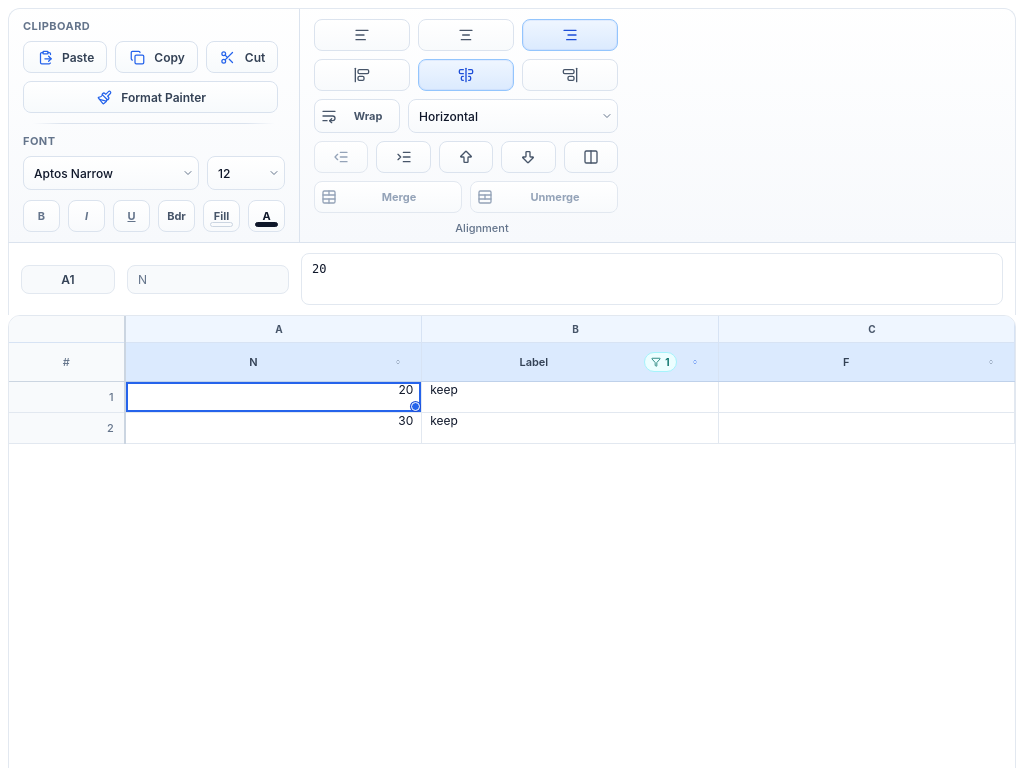
Test: A-007 click-to-insert address when the display order differs from source › inserts the SOURCE address, not the display row number
The image size is (1024, 768).
Step 1. Press the mouse on the cell with class "gm-td" in the row of "30" → (866, 428), box [718,412,1014,444]
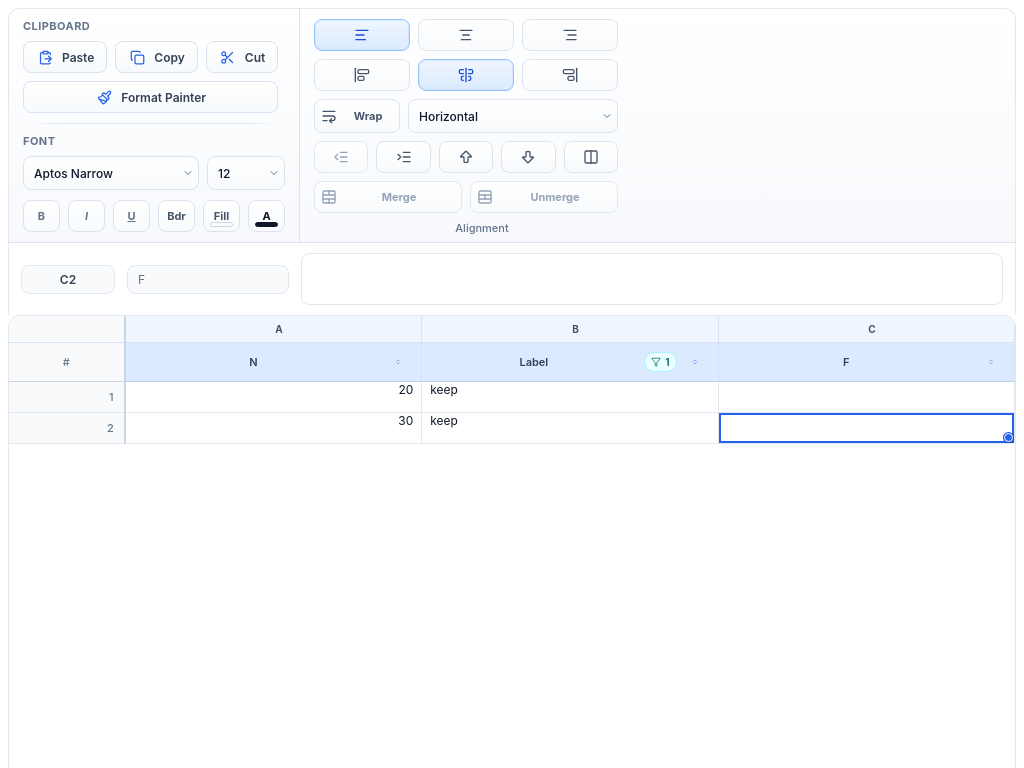
Step 2. Type "=" into the text box → (652, 279), box [301,253,1003,305]
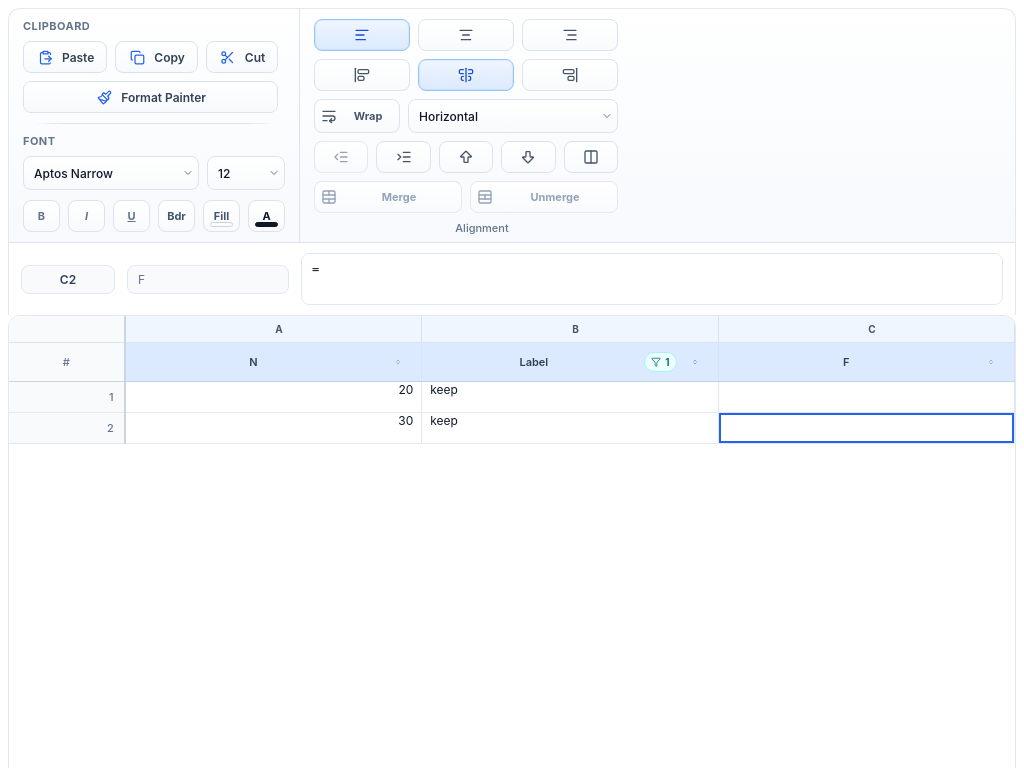
Step 3. Press the mouse on the cell with class "gm-td" showing "20" → (273, 397), box [125,382,422,412]
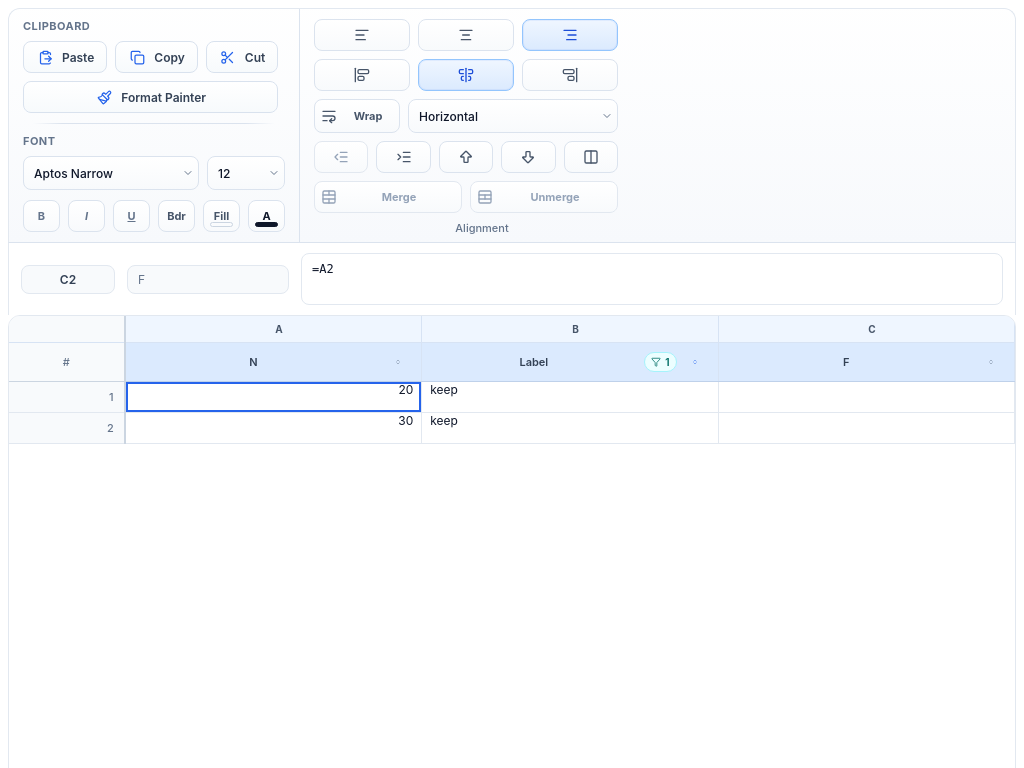
Expected: the text box holds "=A2", [301,253,1003,305]
